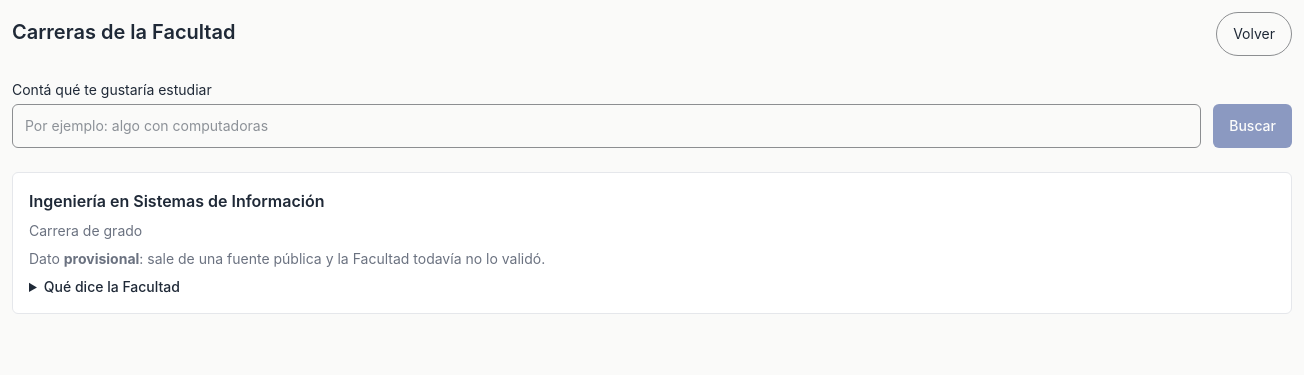
it: Carreras › buscar ordena por parecido, aclara que no es una recomendación y deja volver al catálogo
Expected: the heading "Ingeniería en Sistemas de Información" is shown, [29, 191, 324, 211]
Type "programar" into the search field at (607, 126), box [12, 104, 1201, 148]
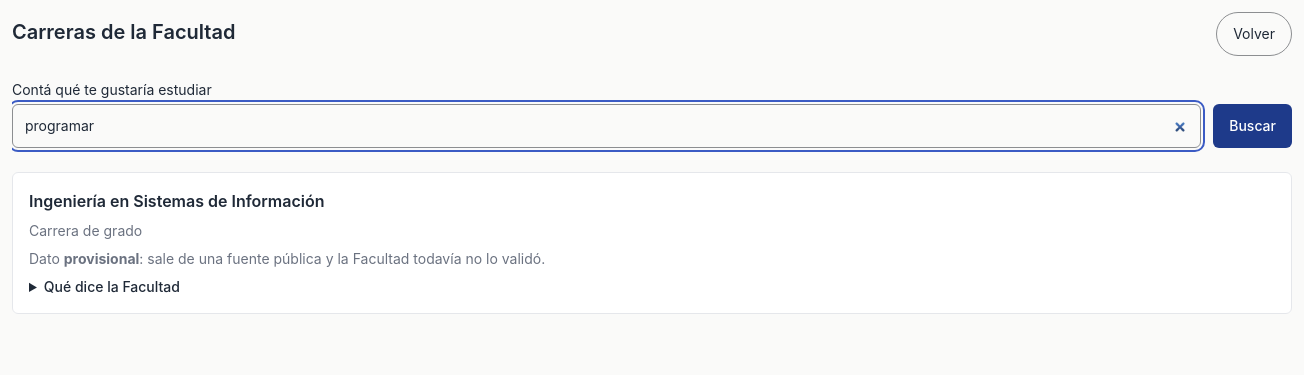
Click the button "Buscar" at (1253, 126), box [1213, 104, 1292, 148]
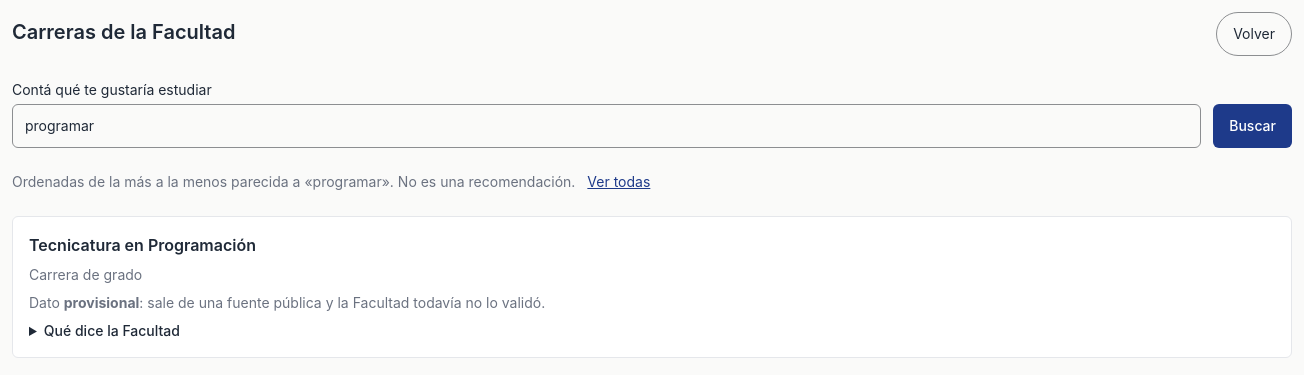
Expected: the heading "Tecnicatura en Programación" is shown, [29, 235, 256, 255]
Expected: the text "No es una recomendación" is shown, [382, 173, 575, 190]
Click the button "Ver todas" at (619, 182), box [587, 172, 650, 192]
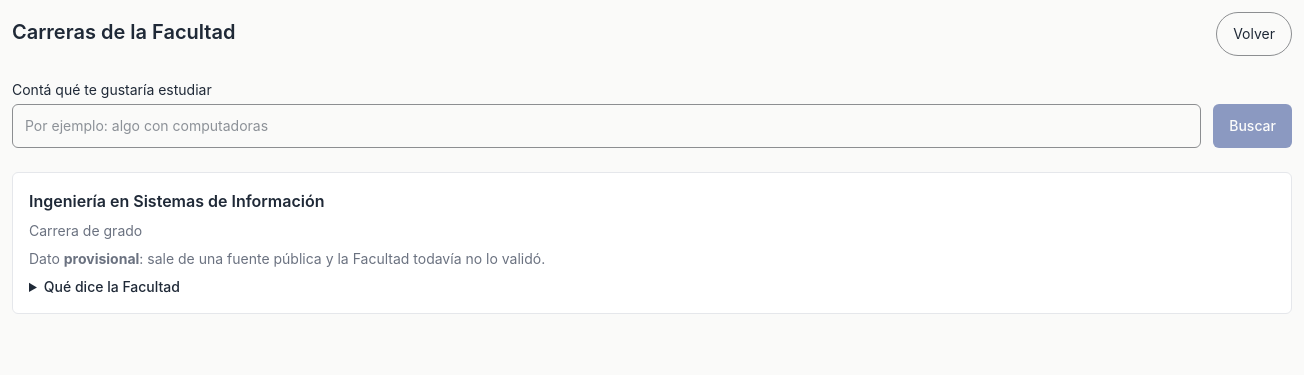
Expected: the heading "Ingeniería en Sistemas de Información" is shown, [29, 191, 324, 211]
